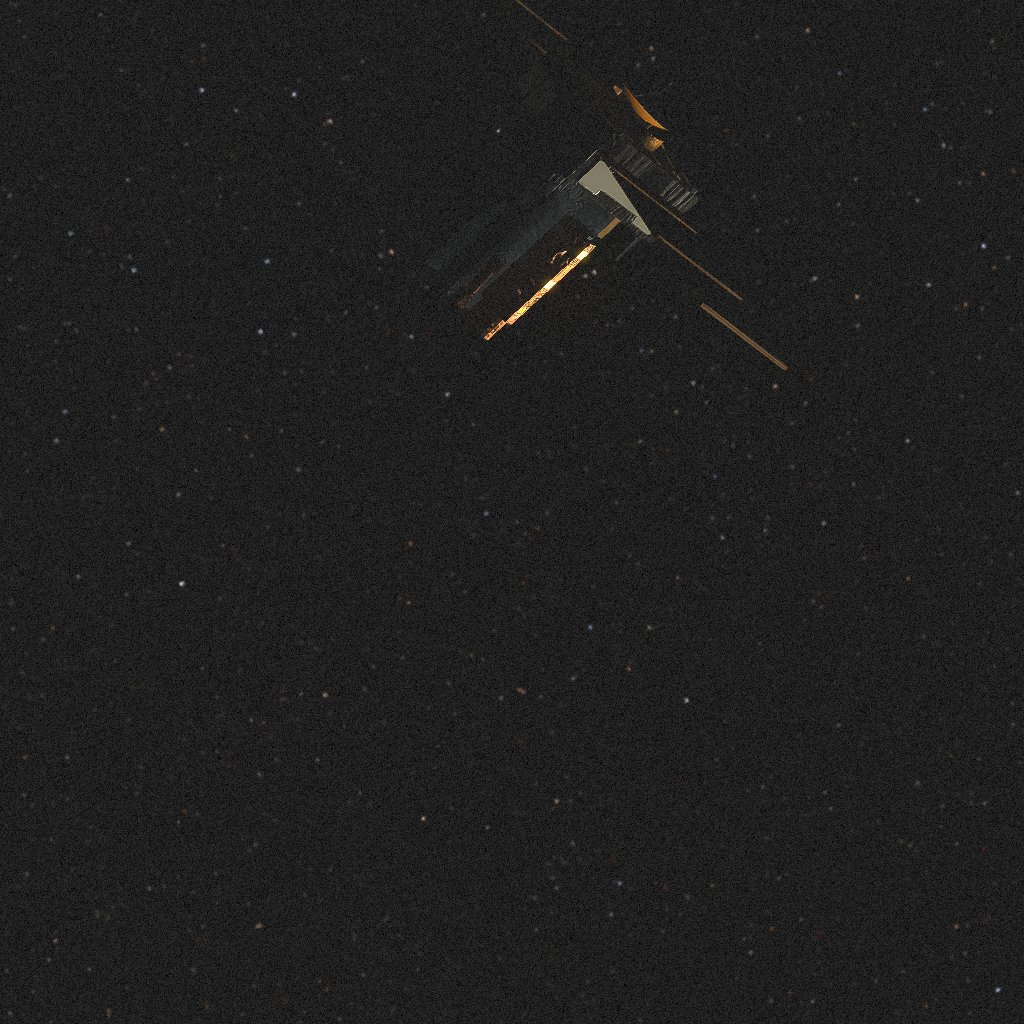soho: (409, 0, 788, 370)
